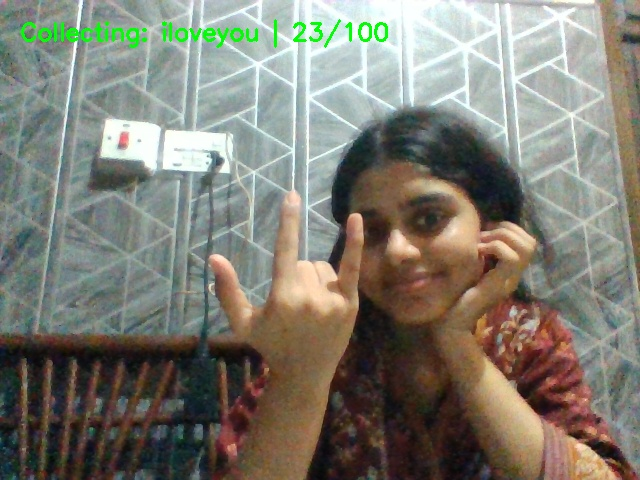iloveyou: (207, 183, 384, 404)
